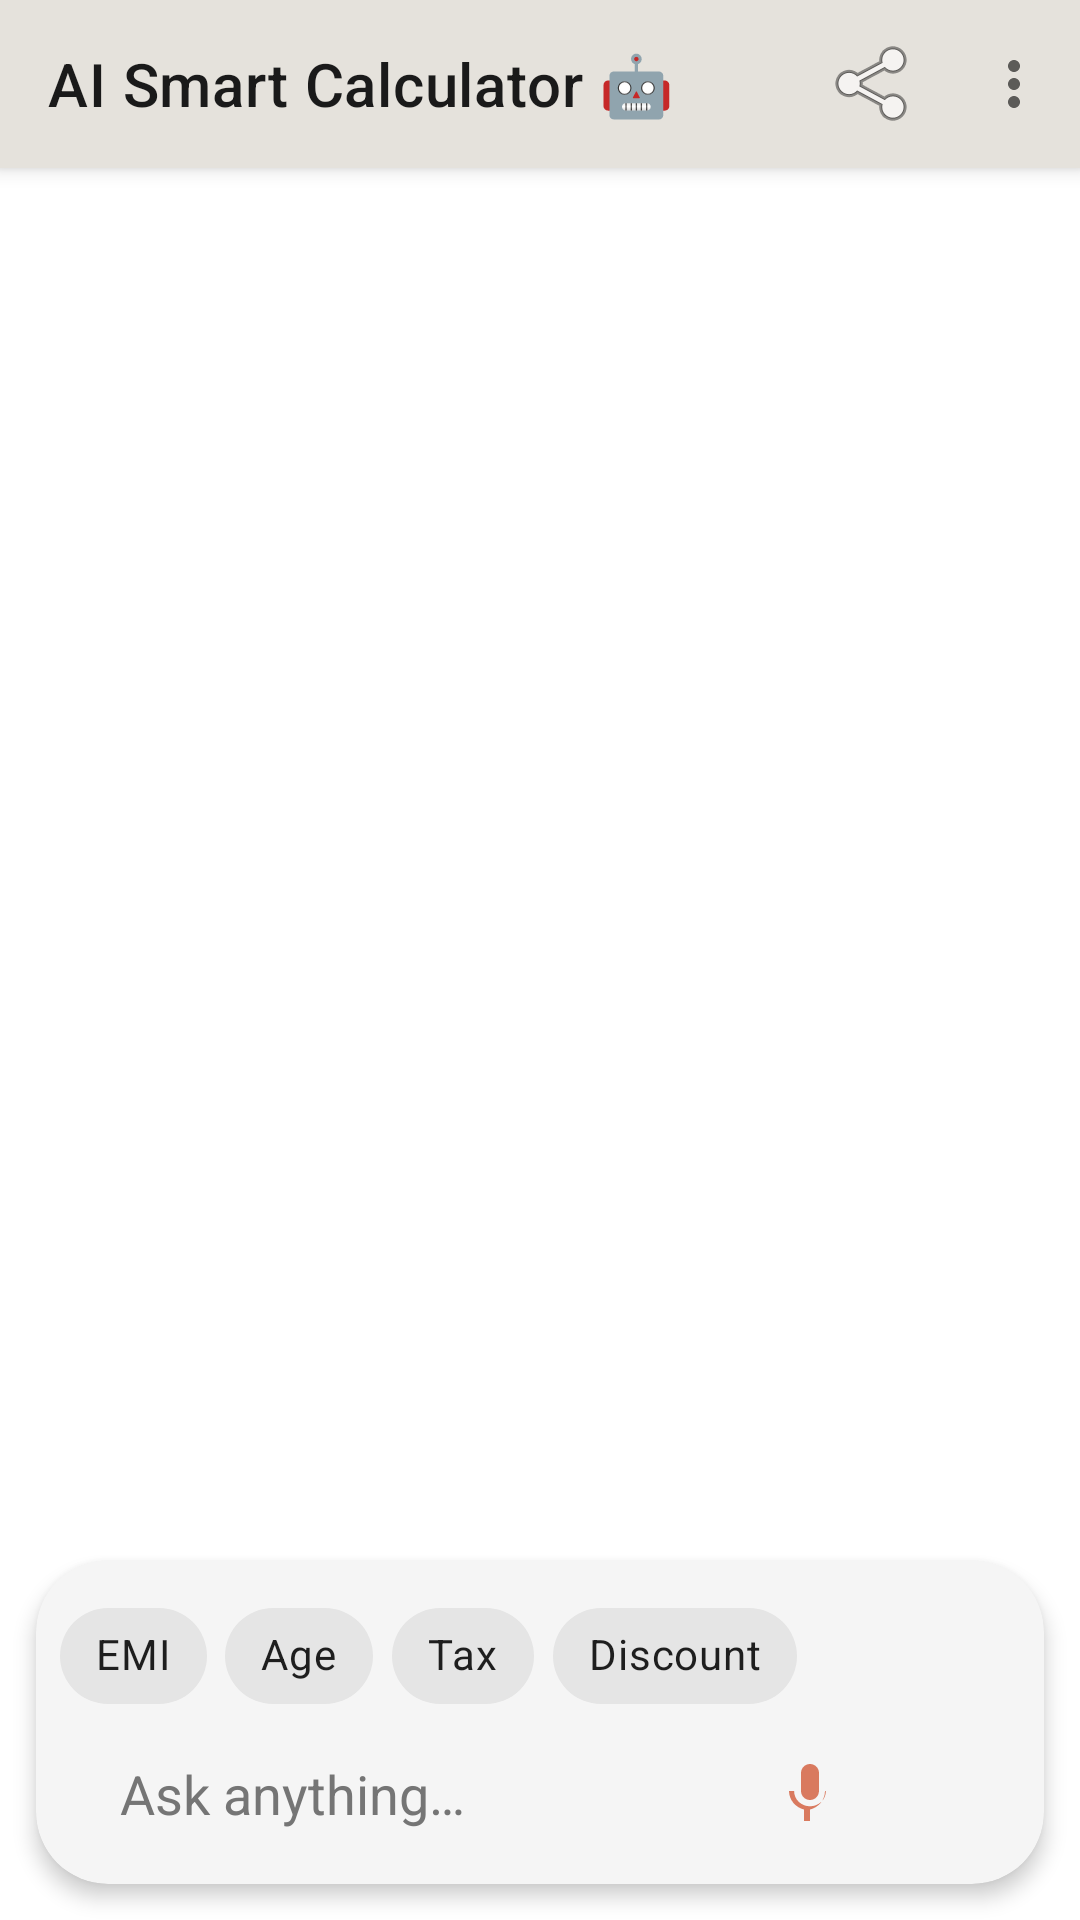

Screen size 1080x1920. Icon name, then its center in pixels as (x=x, y=y):
Voice input: (x=807, y=1792)
